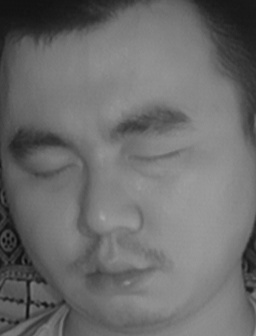blink: (127, 136, 186, 176), (27, 154, 74, 190)
mouth: (79, 244, 160, 297)
